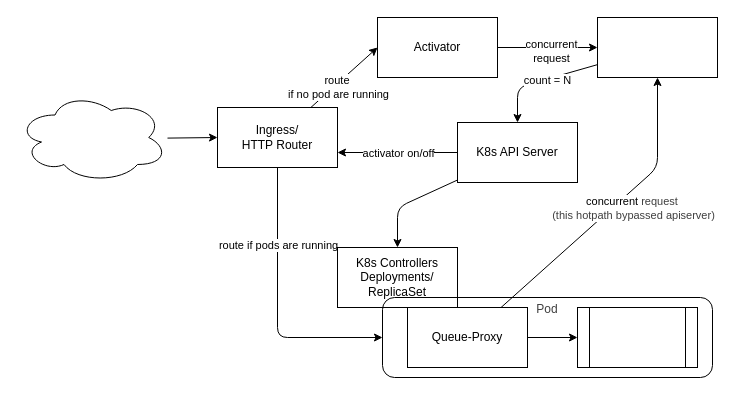
This 735x395 diagram has some shape labels left out. The centre of each missing label's shape, as x and y in pixels:
"Autoscaler (K8s Controller)" goes at [657,47].
"HTTP Request" goes at [92,137].
"User Container" goes at [637,337].
